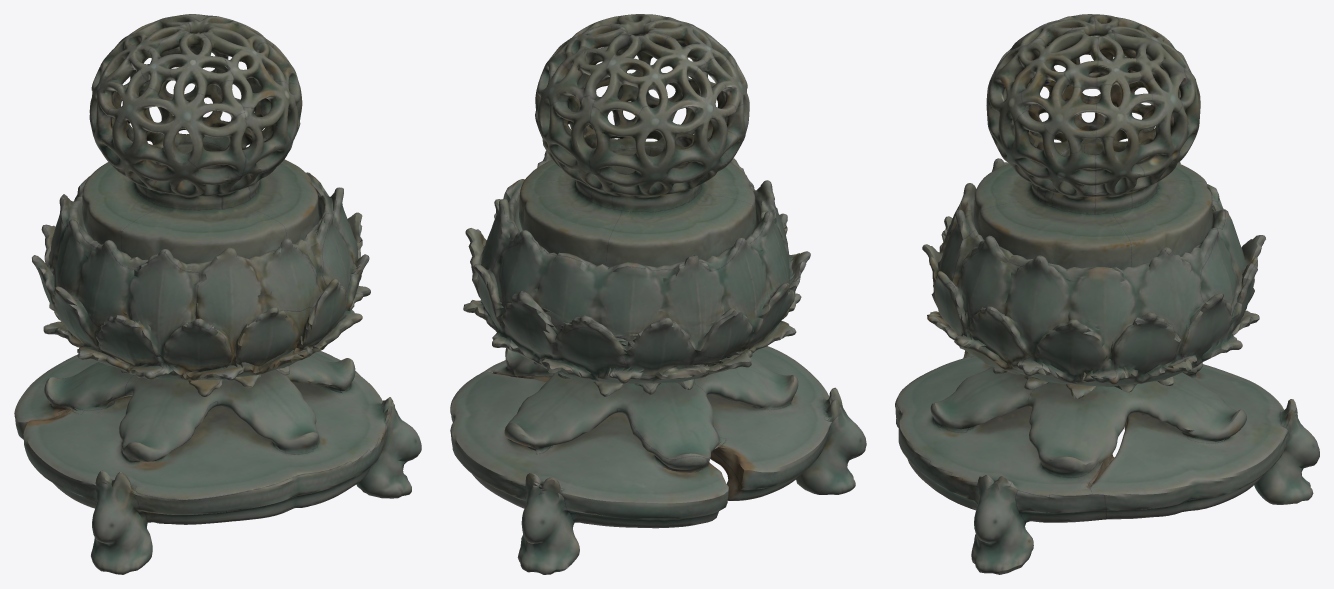
File: incense.glb
3 views of the same model, side by side, from view 1: azimuth 30°, elevation 25°; view 2: azimuth 150°, elevation 25°; view 3: azimuth 270°, elevation 25° (orthographic).
Visible parts, largest first — view 1: duk002990_001_30000, duk002990_002_30000; view 2: duk002990_001_30000, duk002990_002_30000; view 3: duk002990_001_30000, duk002990_002_30000.
Part boxes in pixels (x1,y1,x2,y2): duk002990_001_30000: [14, 172, 421, 574]; duk002990_002_30000: [82, 14, 319, 263]; duk002990_001_30000: [450, 138, 866, 574]; duk002990_002_30000: [519, 14, 756, 267]; duk002990_001_30000: [895, 158, 1319, 574]; duk002990_002_30000: [973, 14, 1212, 269].
Size of the model in its own units: 116 by 155 by 128.
2 materials, 2 textured.
